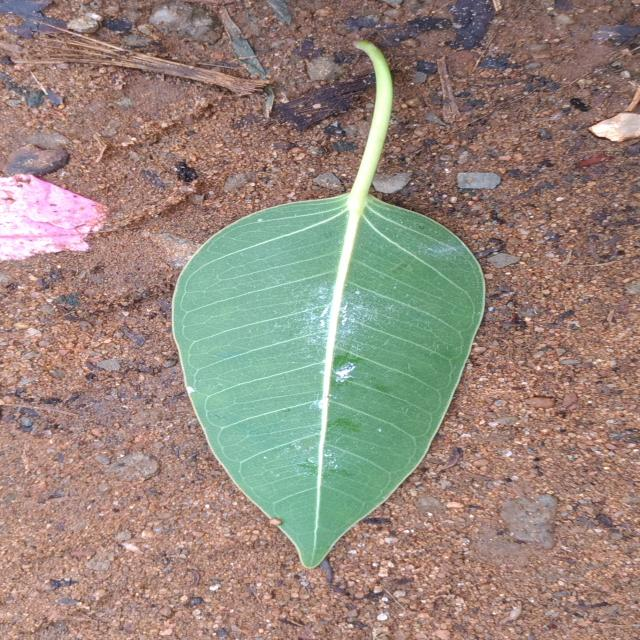camphor: (173, 194, 484, 566), (204, 191, 478, 566)
